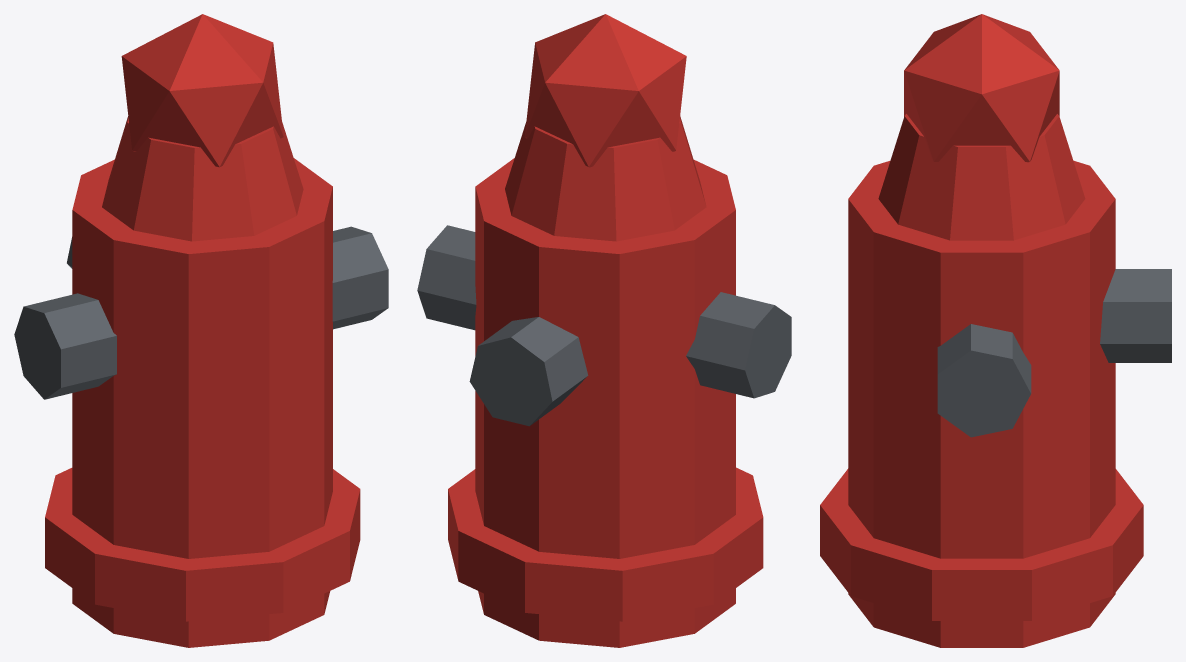
File: VG_Hydrant.fbx
The picture shows the model from 3 angles, left to right: view 1: azimuth 30°, elevation 25°; view 2: azimuth 150°, elevation 25°; view 3: azimuth 270°, elevation 25°; orthographic projection.
Parts seen in each view (by area): view 1: VG_Hydrant_Mesh; view 2: VG_Hydrant_Mesh; view 3: VG_Hydrant_Mesh.
Part boxes in pixels (bbox=[...]): VG_Hydrant_Mesh: bbox=[14, 14, 388, 647]; VG_Hydrant_Mesh: bbox=[417, 14, 791, 647]; VG_Hydrant_Mesh: bbox=[820, 14, 1171, 647].
Bounding box in the file's own units: 0.54 × 0.91 × 0.5.
